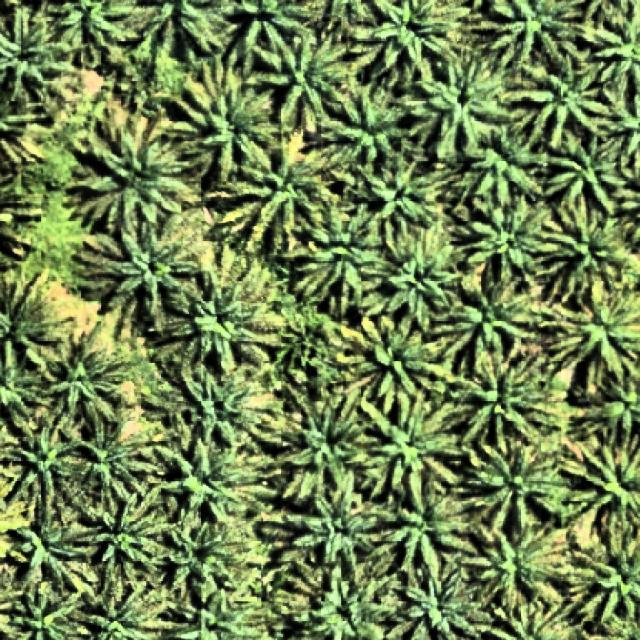Kelapa_Sawit: (68, 100, 190, 240), (212, 128, 341, 256), (166, 54, 288, 188), (258, 383, 382, 508), (152, 262, 282, 381), (350, 388, 464, 514), (74, 220, 200, 334), (447, 340, 567, 454), (288, 200, 390, 322), (338, 309, 446, 423), (404, 51, 512, 164), (144, 368, 290, 450), (458, 516, 577, 616), (148, 436, 282, 524), (432, 264, 540, 373), (246, 20, 357, 125), (506, 48, 616, 150), (459, 438, 570, 537), (9, 492, 105, 606), (332, 150, 443, 248), (362, 220, 462, 328), (372, 480, 476, 582), (77, 492, 183, 592), (58, 413, 164, 512), (534, 198, 630, 307), (318, 75, 417, 176), (286, 482, 382, 582), (151, 506, 240, 612), (40, 324, 128, 428), (3, 416, 92, 518), (452, 123, 548, 214), (456, 196, 550, 286), (540, 130, 631, 218), (272, 314, 352, 384)
